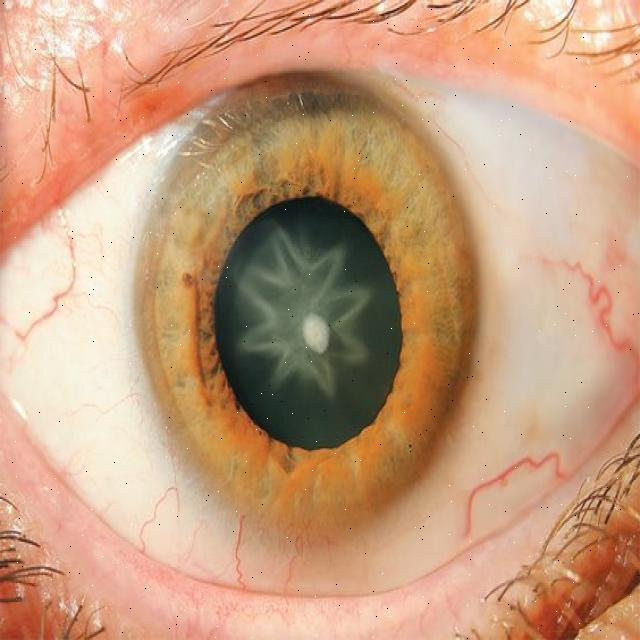Cataract: (129, 65, 478, 553)
